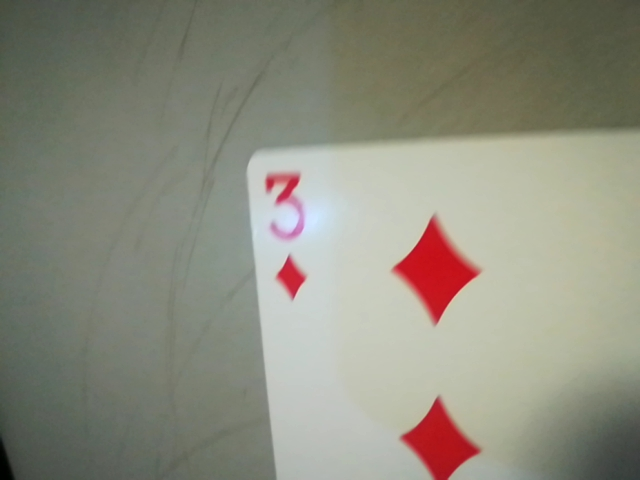fk 3: (247, 157, 327, 312)
